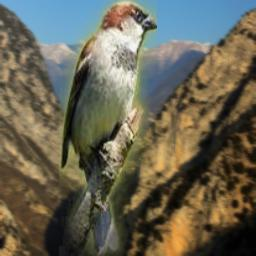Sparrow: (59, 0, 157, 256)
